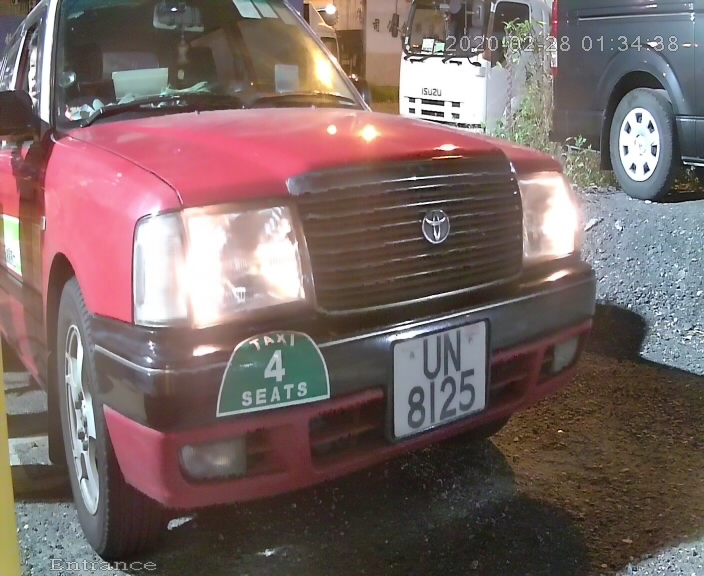taxi: (2, 9, 627, 559)
taxi_mark: (195, 309, 343, 438)
